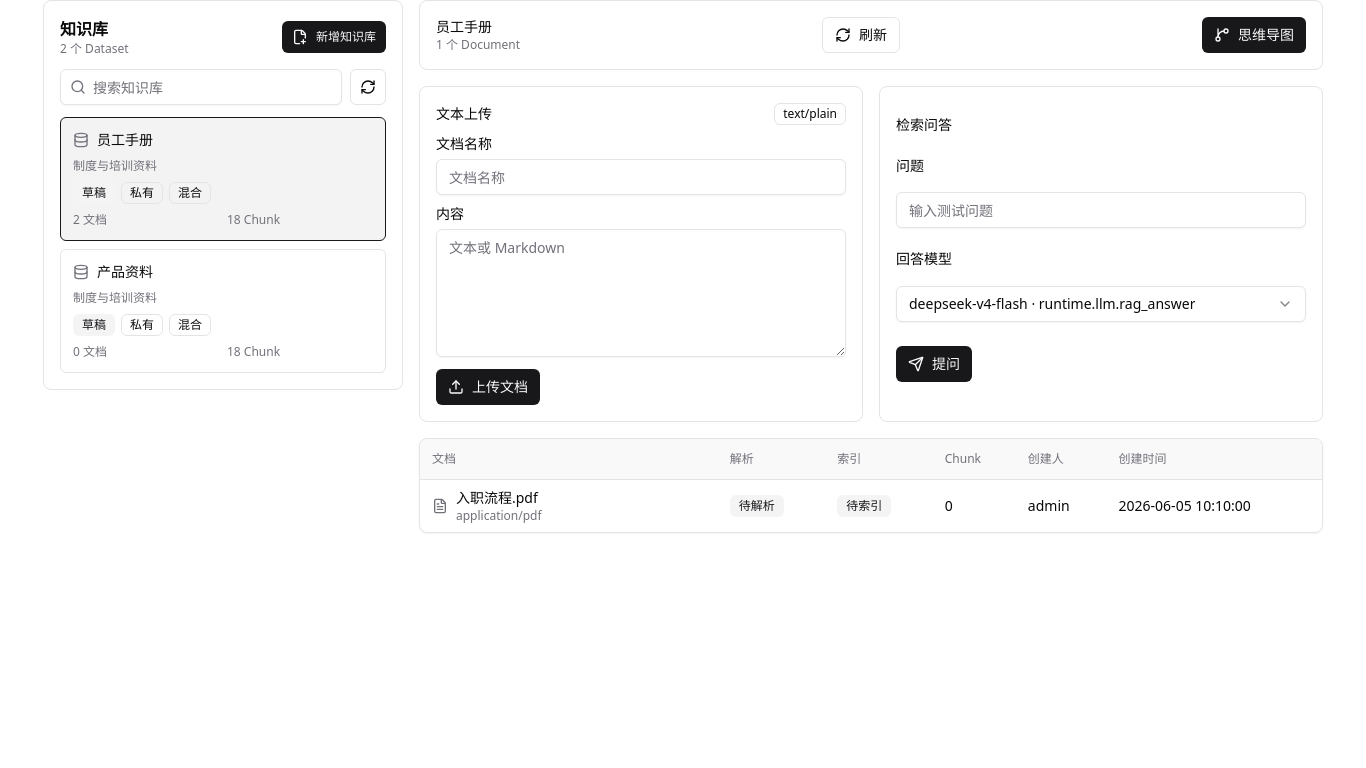
Test case: KnowledgePage › asks the selected dataset and displays citations
The image size is (1366, 768).
expect the button with test id "dataset-card-10" is shown: met, box [60,117,386,241]
Type "培训什么时候开始？" into the field with placeholder "输入测试问题" at (1101, 210), box [896,192,1306,228]
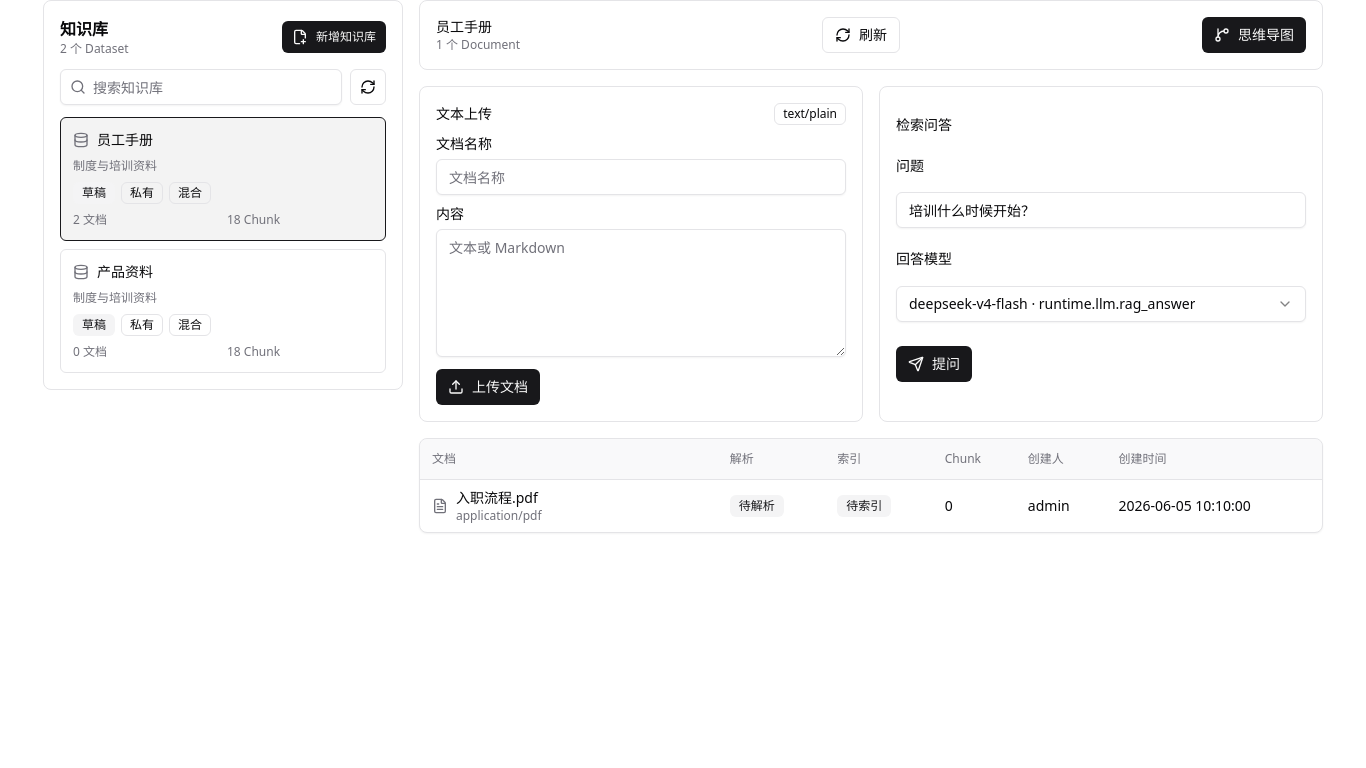
Click the button "提问" at (934, 364), box [896,346,972,382]
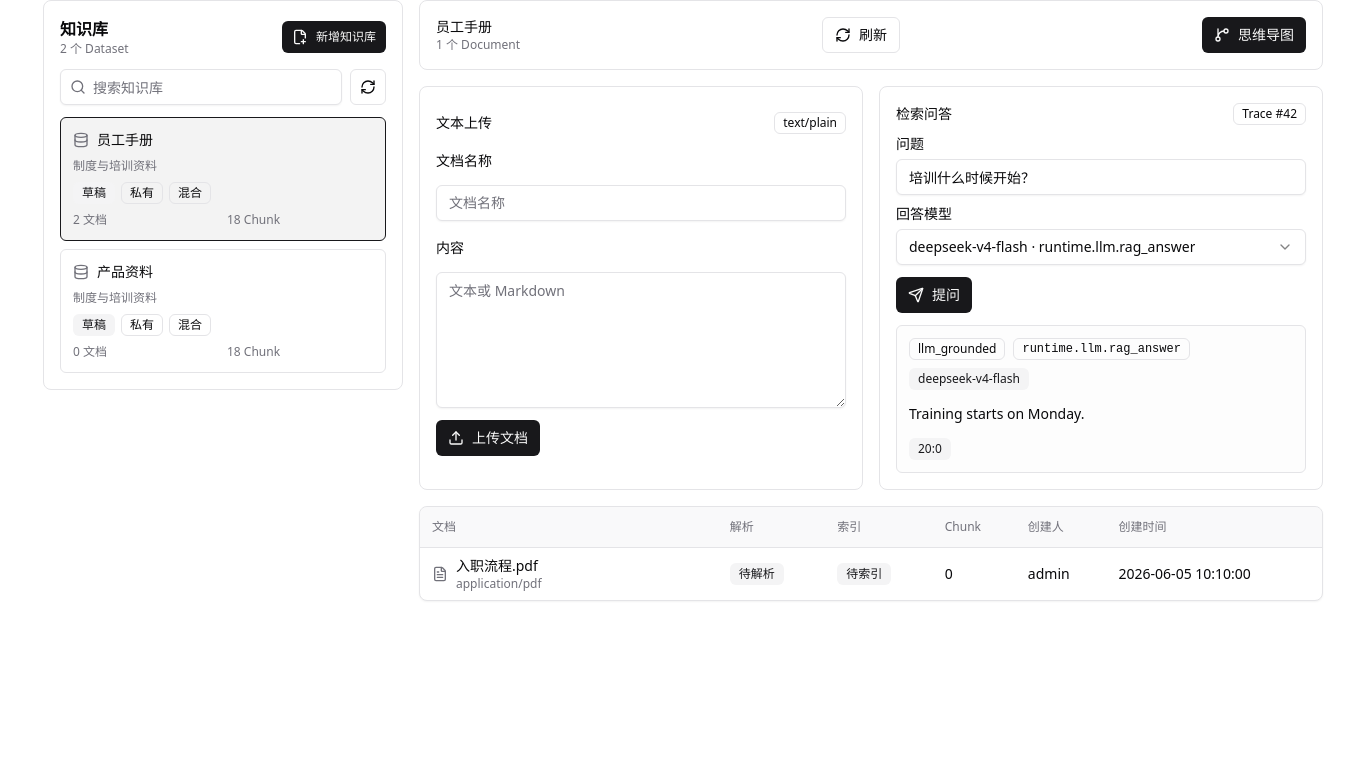
expect the text "Training starts on Monday." is shown: met, box [909,404,1084,423]
expect the text "20:0" is shown: met, box [909,438,951,460]
expect the text "Trace #42" is shown: met, box [1233,103,1306,125]
